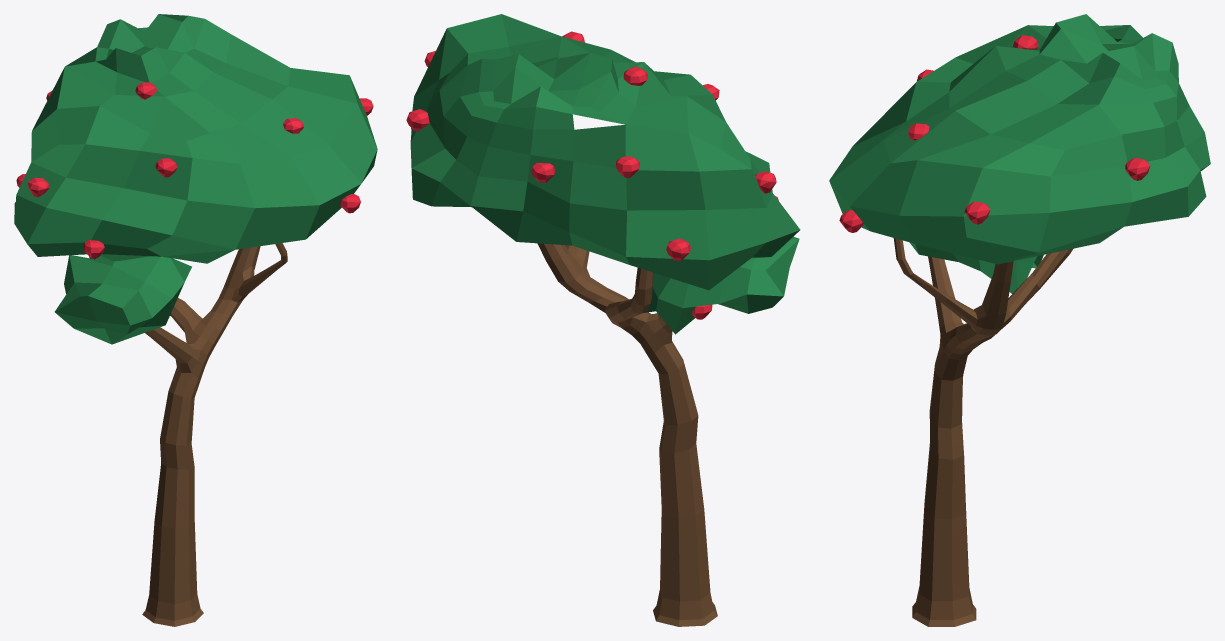
File: Apple_Tree-optimized.glb
The picture shows the model from 3 angles, left to right: view 1: azimuth 30°, elevation 25°; view 2: azimuth 150°, elevation 25°; view 3: azimuth 270°, elevation 25°; orthographic projection. The views are drawn at different scales.
Parts seen in each view (by area): view 1: Apple_4; view 2: Apple_4; view 3: Apple_4.
Boxes of the visible parts, left/top/right/bottom form: Apple_4: left=14, top=14, right=377, bottom=626; Apple_4: left=406, top=14, right=800, bottom=626; Apple_4: left=829, top=14, right=1210, bottom=626.
Bounding box in the file's own units: 1.86 × 2.76 × 1.58.
